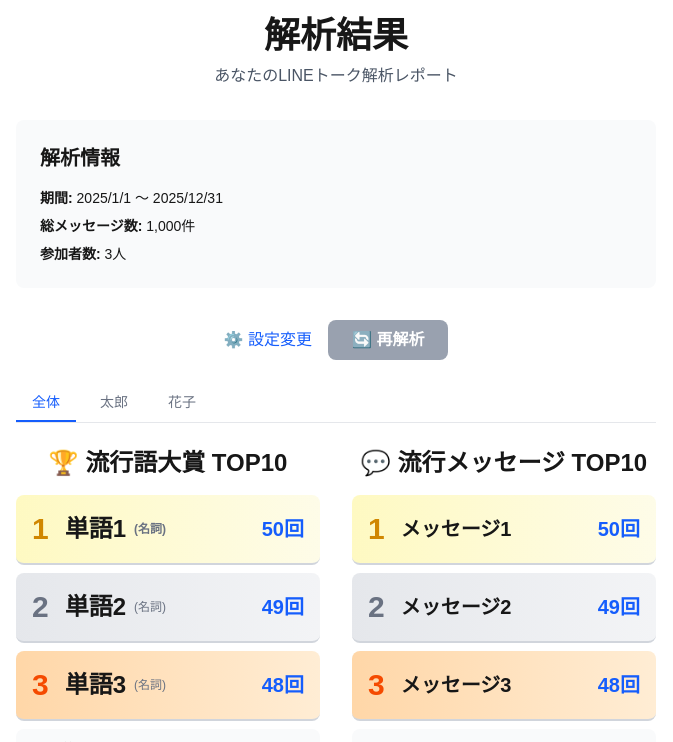
Test case: ResultPage 統合テスト › タブ切り替え › ユーザータブをクリックすると該当ユーザーのランキングに切り替わる
The image size is (673, 742).
// 太郎タブをクリック
Click the tab "太郎" at point(114, 403), box [84, 384, 144, 422]
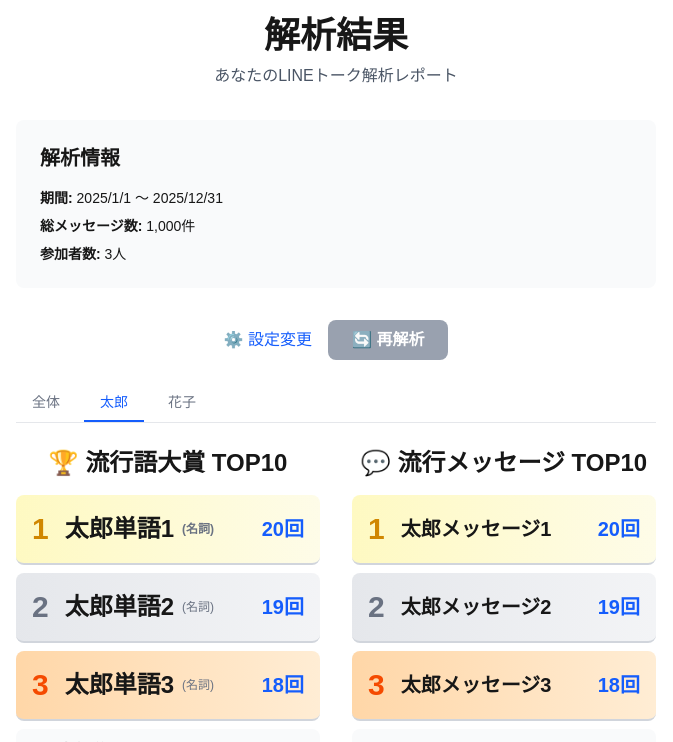
// 花子タブをクリック
Click the tab "花子" at point(182, 403), box [152, 384, 212, 422]
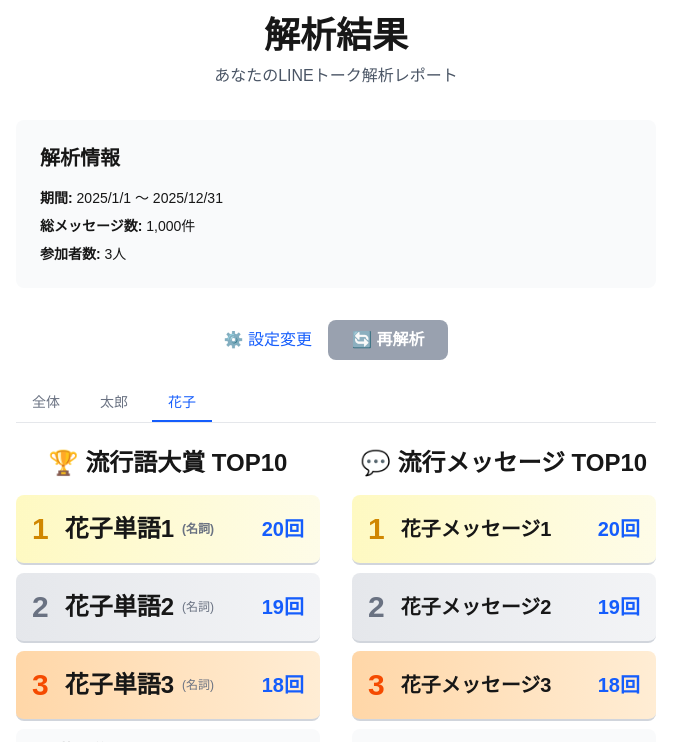
Expected: the text "太郎単語1" is gone
//  全体タブに戻る
Click the tab "全体" at point(46, 403), box [16, 384, 76, 422]
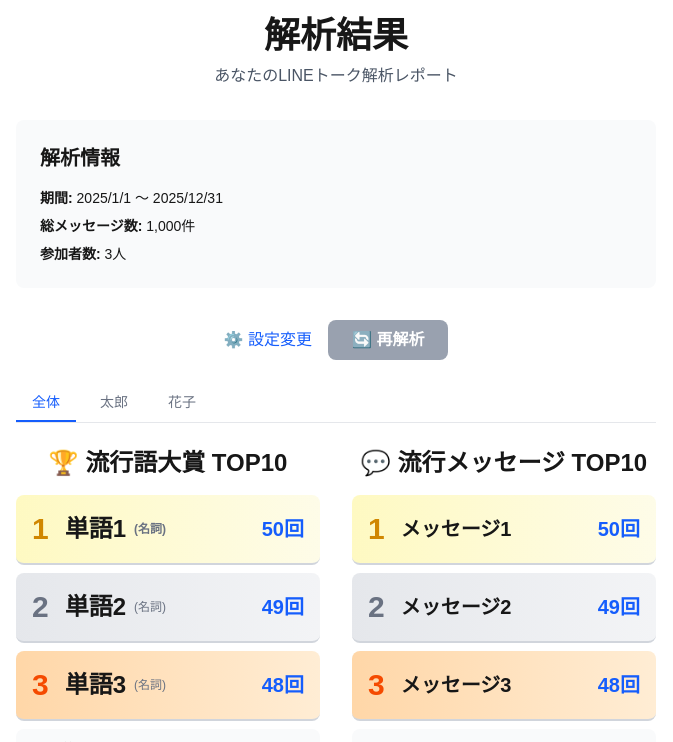
Expected: the text "花子単語1" is gone
